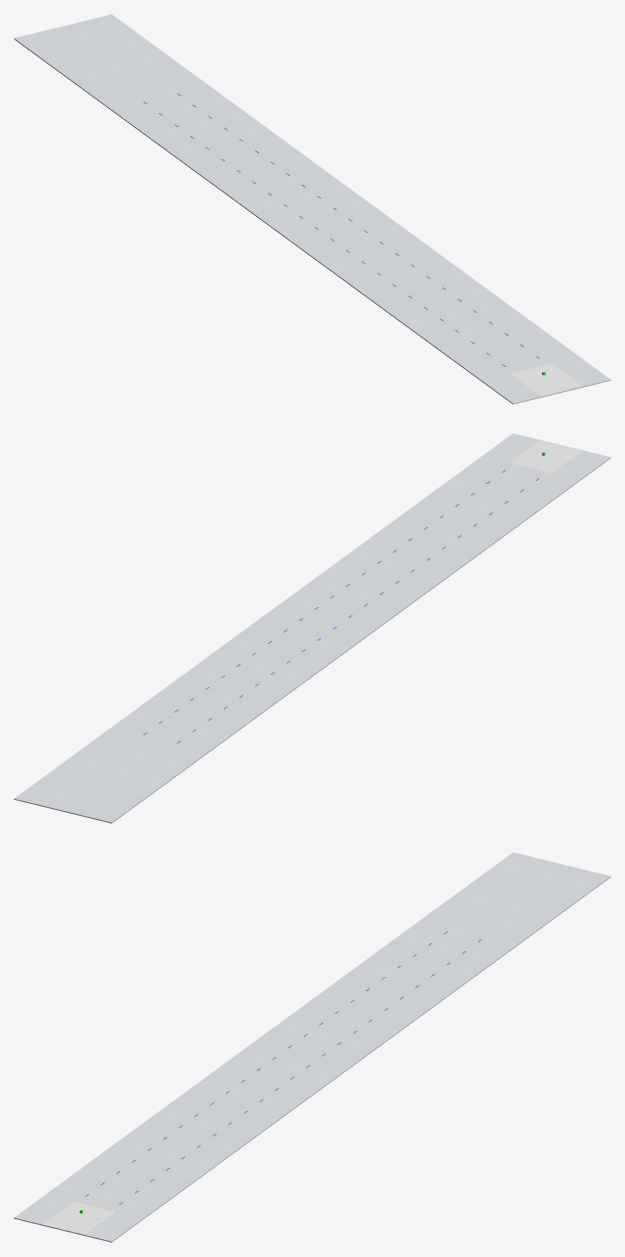
Rendered from map.glb.
3 renders of one model, top to bottom at view 1: azimuth 30°, elevation 25°; view 2: azimuth 150°, elevation 25°; view 3: azimuth 330°, elevation 25°, orthographic.
Parts seen in each view (by area): view 1: ground, snow; view 2: ground, snow; view 3: ground, snow.
Part boxes in pixels (x1,y1,x2,y2): ground: [14, 14, 610, 404]; snow: [510, 363, 581, 396]; ground: [14, 433, 610, 823]; snow: [510, 440, 581, 473]; ground: [14, 852, 610, 1242]; snow: [43, 1201, 114, 1234].
Bounding box in the file's own units: 18.11 × 1.28 × 160.
Materials: 4 (1 with a texture image).
